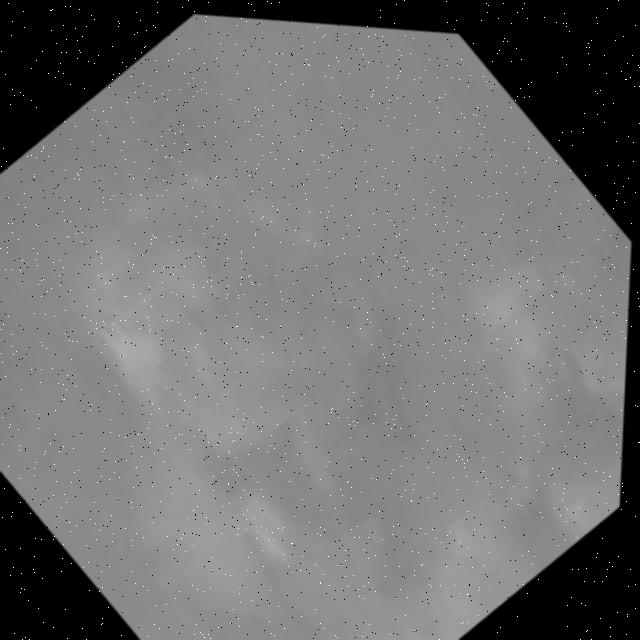Oyster-Indeterminate: (87, 176, 384, 456)
